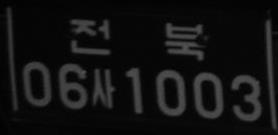0: (192, 71, 224, 120), (21, 59, 52, 107), (155, 68, 186, 116)
1: (122, 67, 148, 114)
3: (231, 73, 262, 122)
6: (57, 62, 87, 109)
사: (90, 68, 115, 109)
전북_D: (70, 17, 205, 61)
